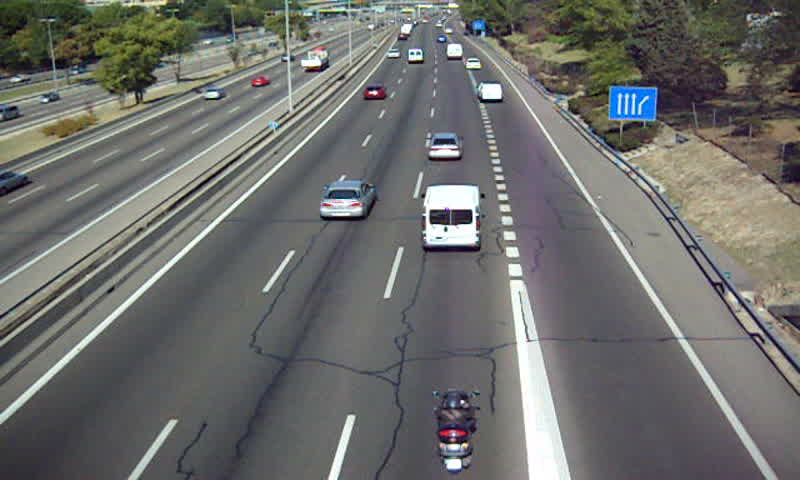car: (318, 181, 376, 218), (426, 133, 463, 161), (363, 84, 386, 99), (465, 57, 482, 70)
motorcycle: (436, 387, 477, 473)
van: (421, 185, 482, 249), (477, 81, 502, 103), (407, 48, 424, 63)
